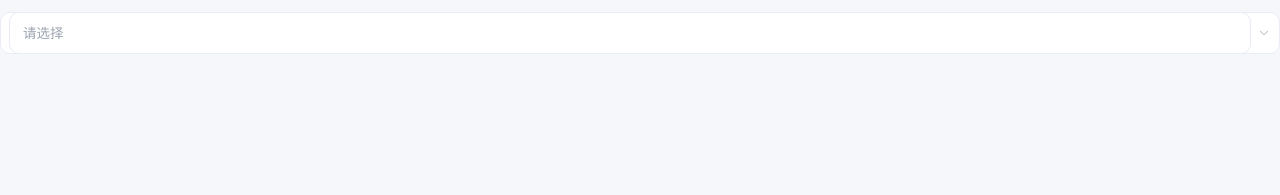
Test: EntitySelect › searchable：Esc 关闭面板且焦点留在输入框
The image size is (1280, 195).
Click the dropdown: [630, 33] box [9, 12, 1251, 54]
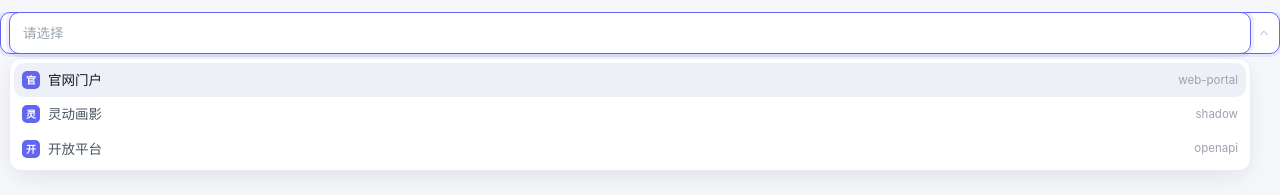
Check: the list is shown, box [9, 58, 1251, 171]
Press Escape
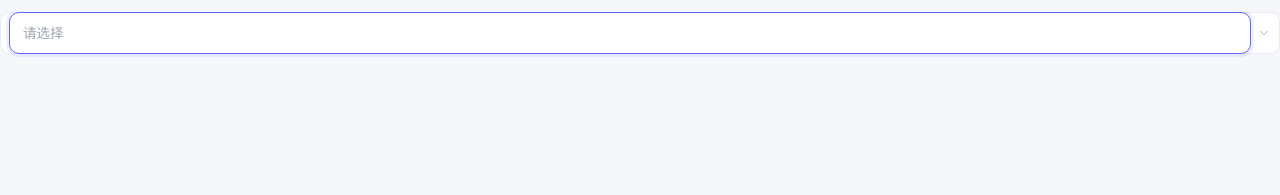
Check: the list is gone
